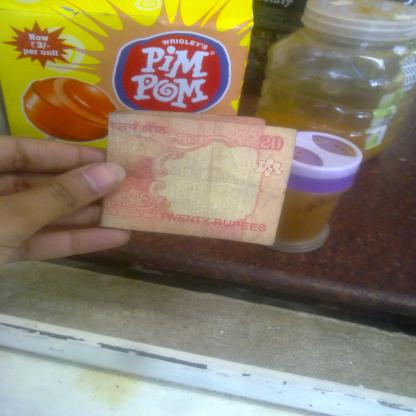Old20Back: (106, 117, 298, 242)
